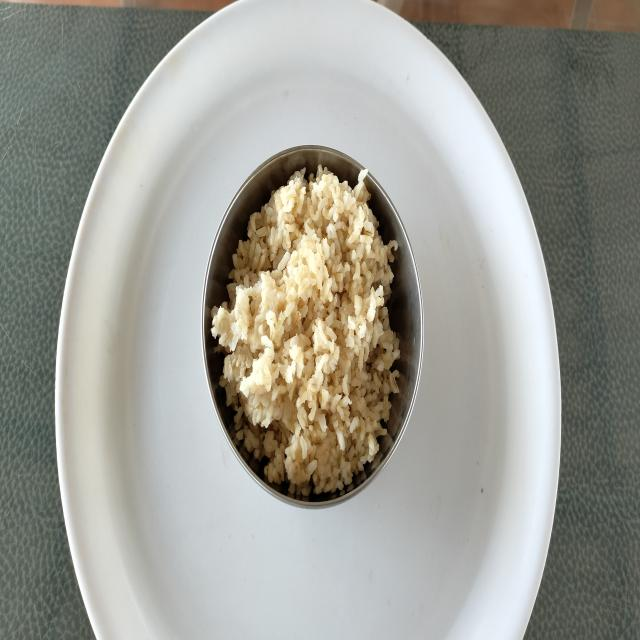brown-rice: (211, 166, 400, 496)
